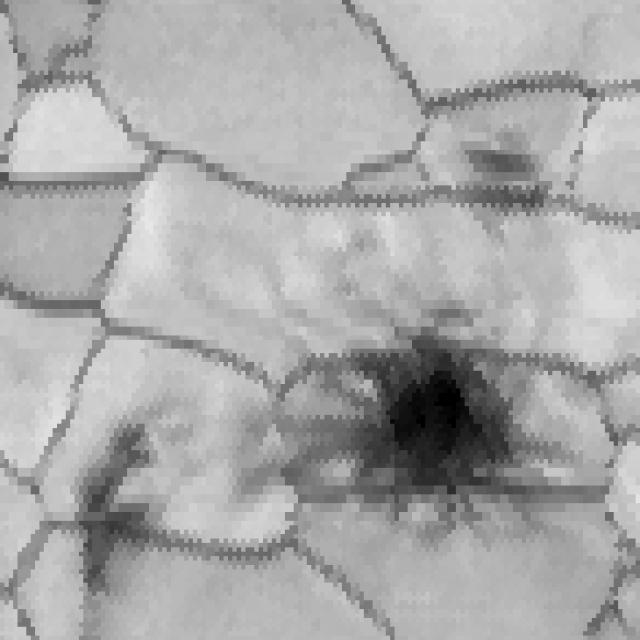good_void: (233, 301, 587, 548), (68, 419, 173, 602), (445, 120, 550, 202), (45, 23, 103, 79)
